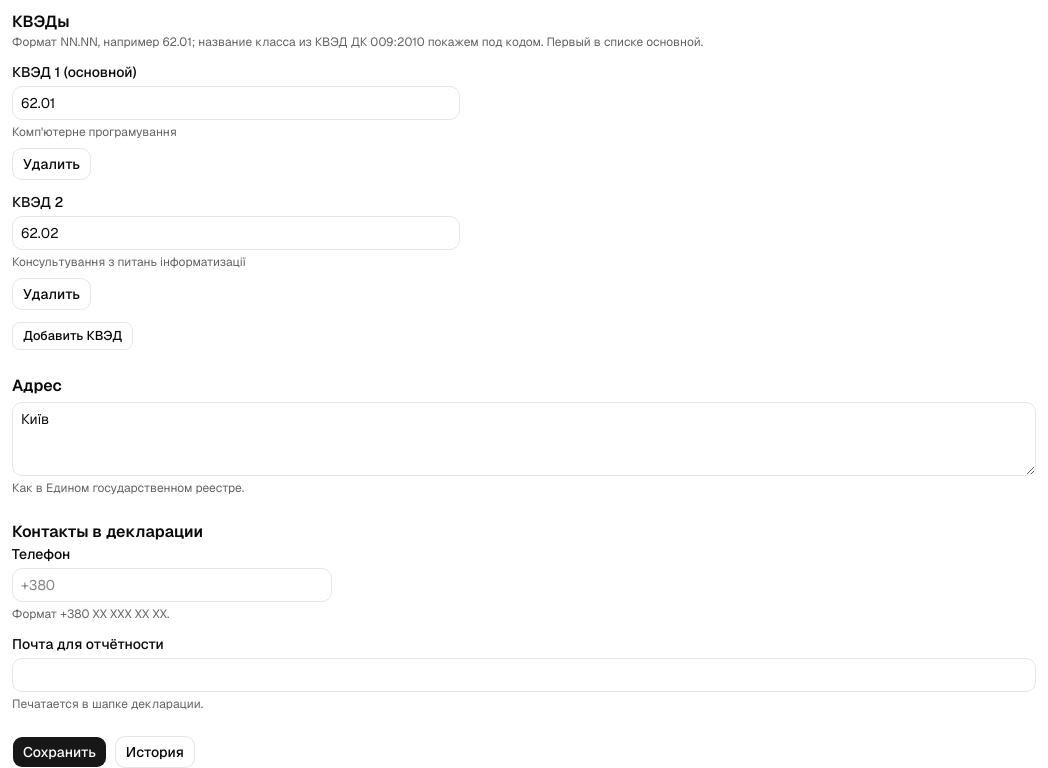
it: DeclarationDetailsForm contacts › words a rejected phone in Russian
The width and height of the screenshot is (1048, 768).
(page scrolled)
Click the button "Сохранить".
click(59, 752)  # box [12,736,107,767]
(page scrolled)
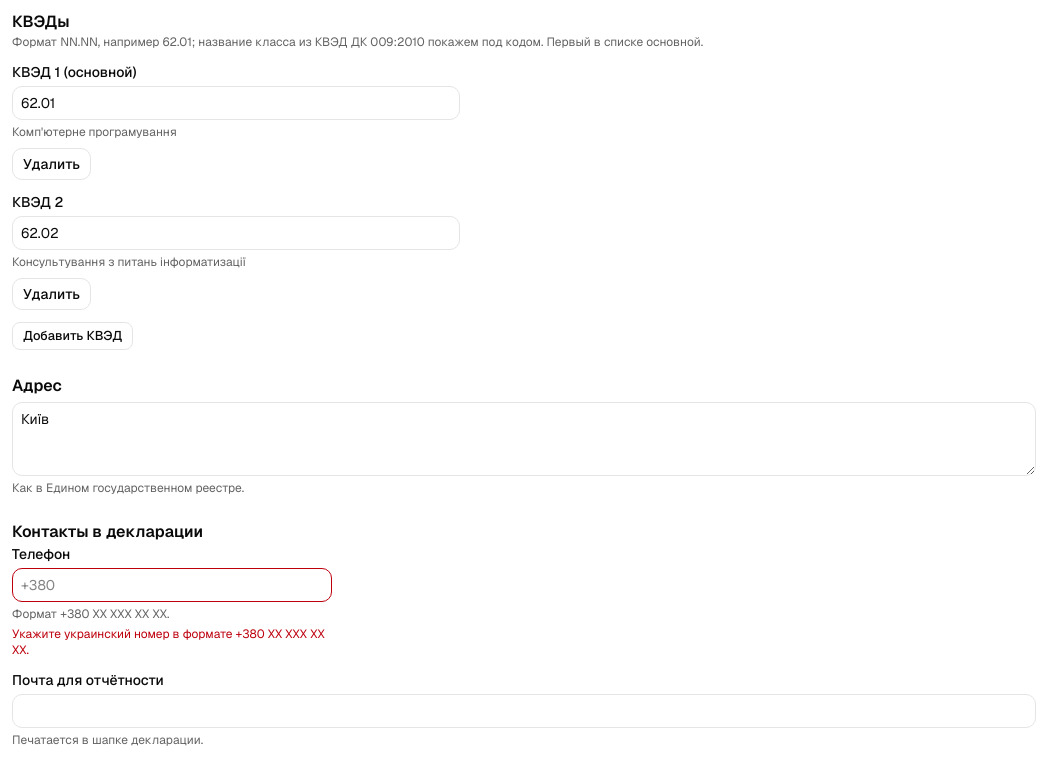
Check: the text "Укажите украинский номер в формате +380 XX XXX XX XX." is shown, box [12,626,332,658]
